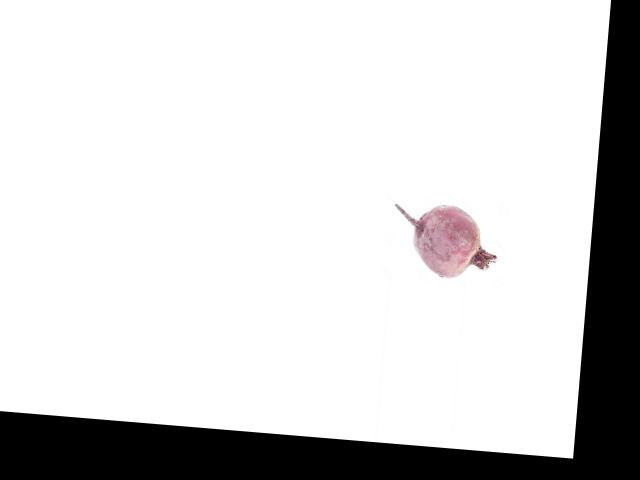beet: (389, 200, 502, 281)
